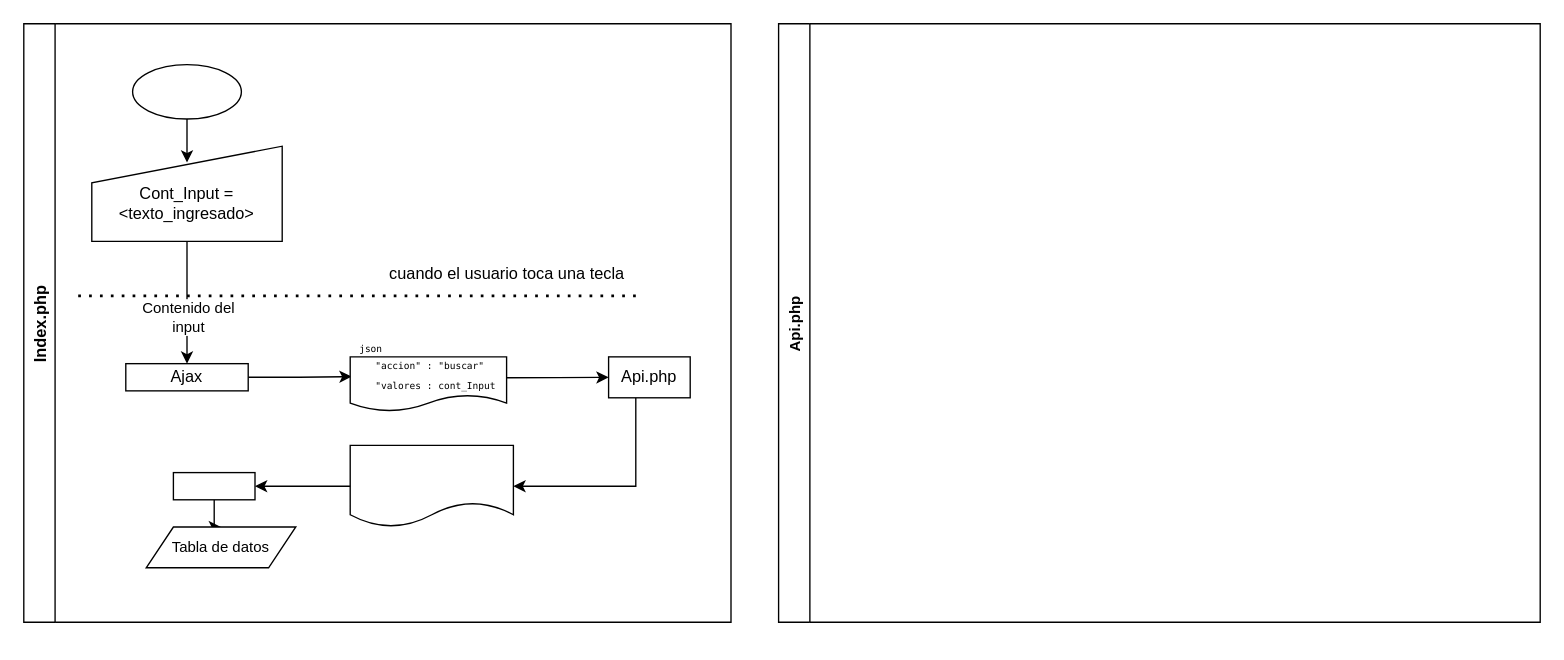
Some shapes in this 1564 by 660 pixel diagram are drawn without their labels. The box of each missing label's shape, as (x1, y1, x2, y2) in pixels:
```JSON {tabla:{ campo1:{...}, campo2:{...}, campoN:{...} } } ```: (349, 444, 513, 527)
Inicio: (131, 63, 241, 119)
Tabla: (172, 471, 255, 500)
